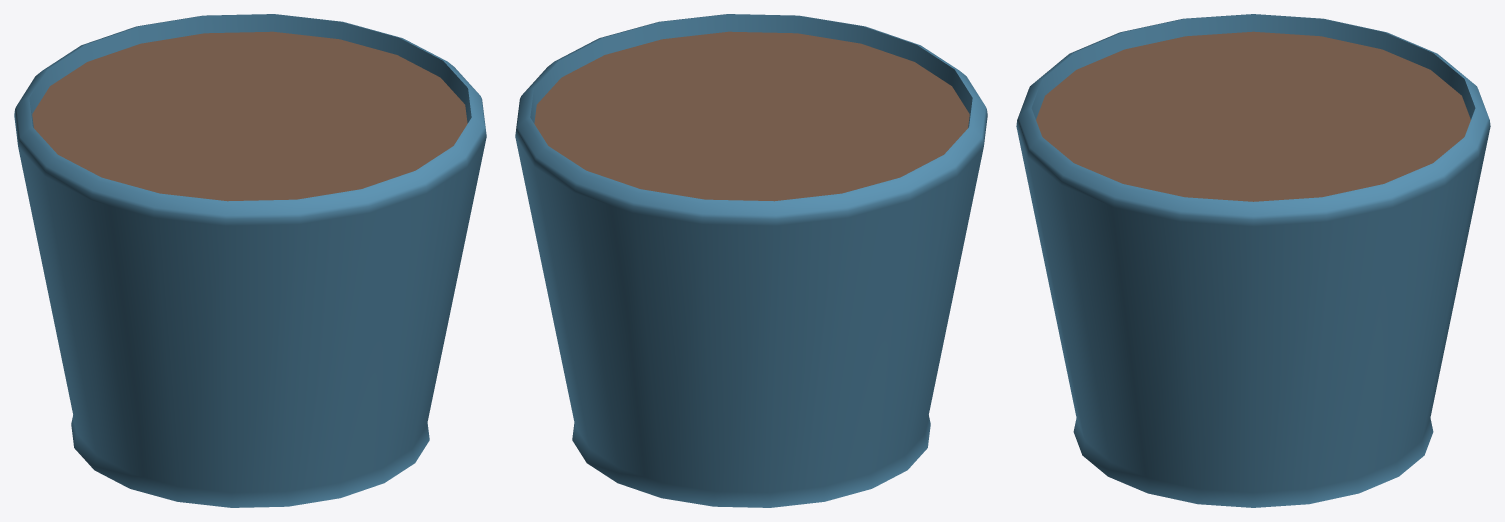
The model's file is PlantPotBlue.fbx.
3 views of the same model, side by side, from view 1: azimuth 30°, elevation 25°; view 2: azimuth 150°, elevation 25°; view 3: azimuth 270°, elevation 25° (orthographic).
Visible parts, largest first — view 1: pCylinder33; view 2: pCylinder33; view 3: pCylinder33.
Boxes of the visible parts, left/top/right/bottom form: pCylinder33: left=14, top=14, right=486, bottom=507; pCylinder33: left=515, top=14, right=987, bottom=507; pCylinder33: left=1016, top=14, right=1490, bottom=507.
Size of the model in its own units: 0.8286 by 0.6245 by 0.8286.
